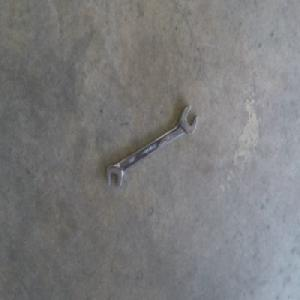Wrench: (107, 101, 198, 191)
